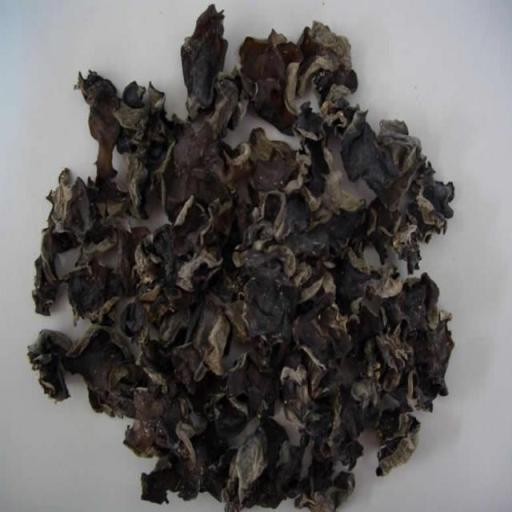mushroom: (30, 4, 455, 512)
